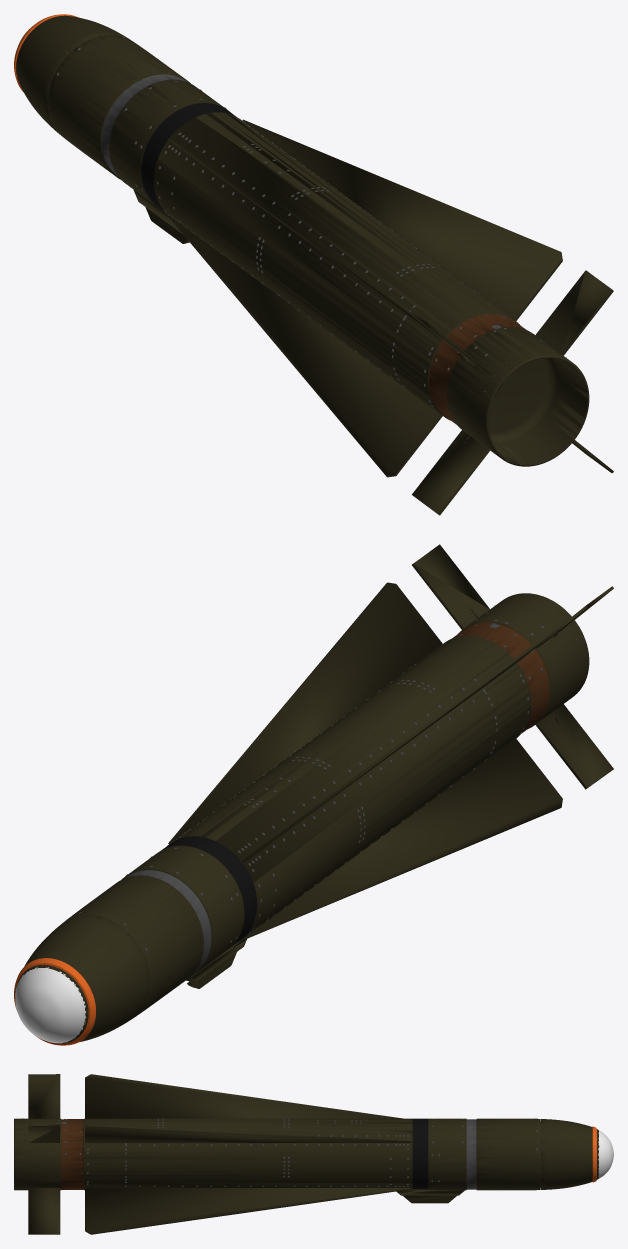
The model's file is w_agm65b.glb.
3 renders of one model, top to bottom at view 1: azimuth 30°, elevation 25°; view 2: azimuth 150°, elevation 25°; view 3: azimuth 270°, elevation 25°, orthographic. The views are drawn at different scales.
Visible parts, largest first — view 1: body|GREEN, body|BROWN, body|SILVER, body|BLACK; view 2: body|GREEN, body|GLASS, body|BROWN, body|SILVER, body|BLACK, body|FRONT_ORANGE; view 3: body|GREEN, body|BROWN, body|SILVER, body|BLACK, body|GLASS, body|FRONT_ORANGE.
Boxes of the visible parts, box(x1,y1,x2,y2) form: body|GREEN: box(16, 15, 613, 515); body|BROWN: box(429, 314, 525, 424); body|SILVER: box(32, 30, 566, 406); body|BLACK: box(141, 103, 235, 211); body|GREEN: box(15, 544, 613, 1043); body|GLASS: box(15, 967, 85, 1043); body|BROWN: box(452, 622, 549, 732); body|SILVER: box(78, 599, 576, 972); body|BLACK: box(162, 836, 257, 945); body|FRONT_ORANGE: box(14, 958, 95, 1045); body|GREEN: box(14, 1074, 598, 1234); body|BROWN: box(61, 1119, 83, 1189); body|SILVER: box(22, 1118, 537, 1189); body|BLACK: box(412, 1118, 428, 1188); body|GLASS: box(598, 1130, 613, 1178); body|FRONT_ORANGE: box(592, 1126, 596, 1182).
Size of the model in its own units: 0.5056 by 0.5056 by 2.5.
